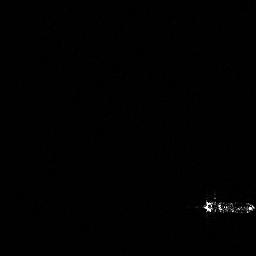ship: (197, 193, 256, 218)
